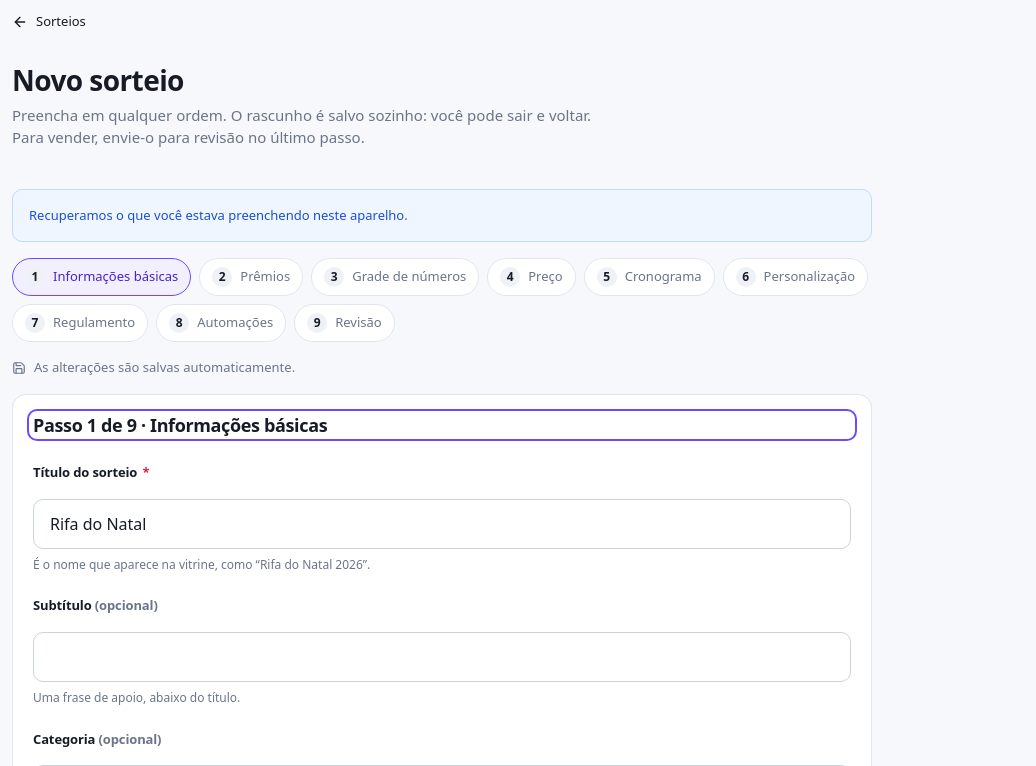
revisao e envio › pendencias listadas e envio travado (sem regulamento, sem data)
Click the button "9 Revisão" at (344, 323), box [294,304,395,342]
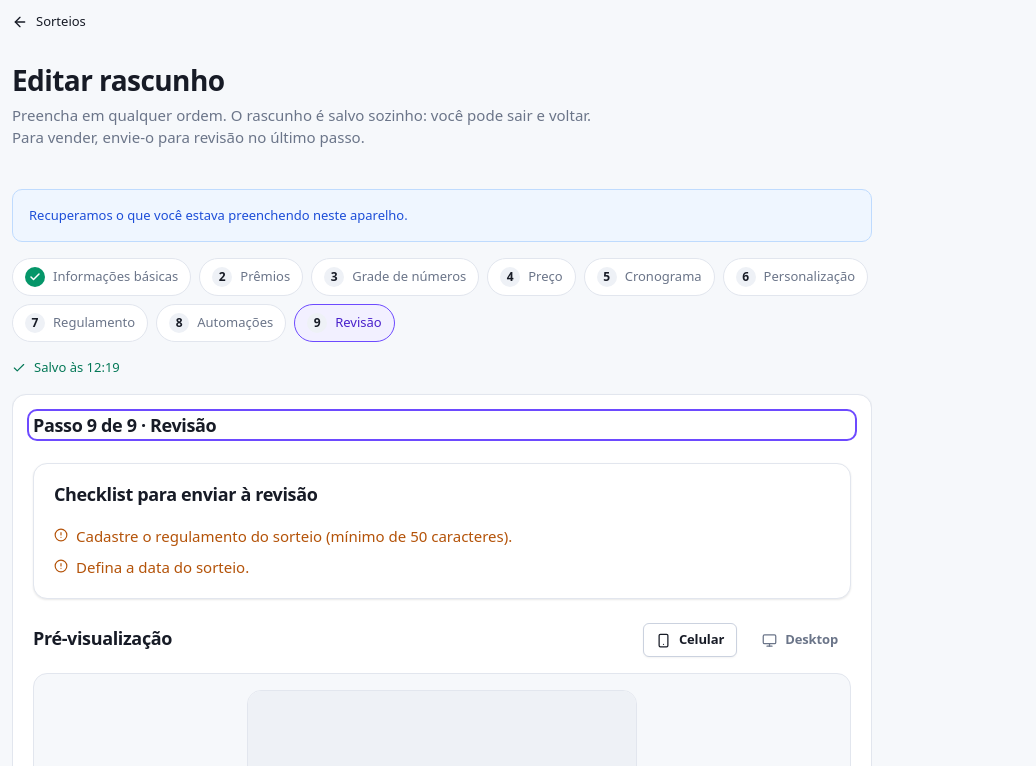
Expected: the list item "Cadastre o regulamento do sorteio (mínimo de 50 caracteres)." is shown, [54,526,512,546]
Expected: the list item "Defina a data do sorteio." is shown, [54,557,249,577]
